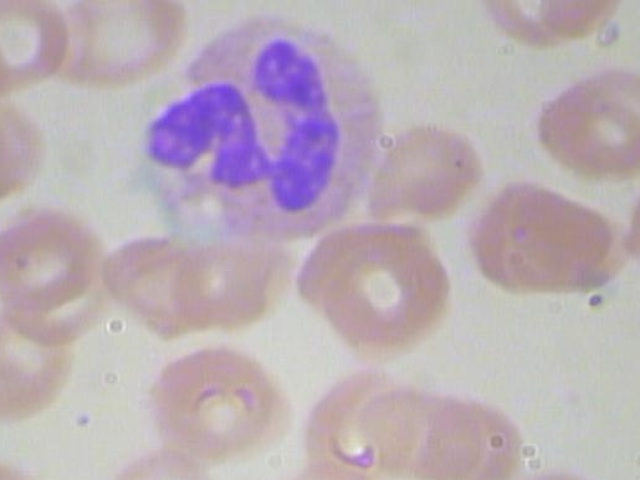RBC: (463, 177, 636, 304), (308, 230, 454, 360), (150, 338, 289, 457), (363, 118, 486, 226), (52, 0, 192, 89), (530, 67, 640, 176), (0, 195, 104, 309), (0, 306, 71, 420), (476, 0, 632, 51), (0, 0, 73, 90)
WBC: (130, 9, 402, 262)
